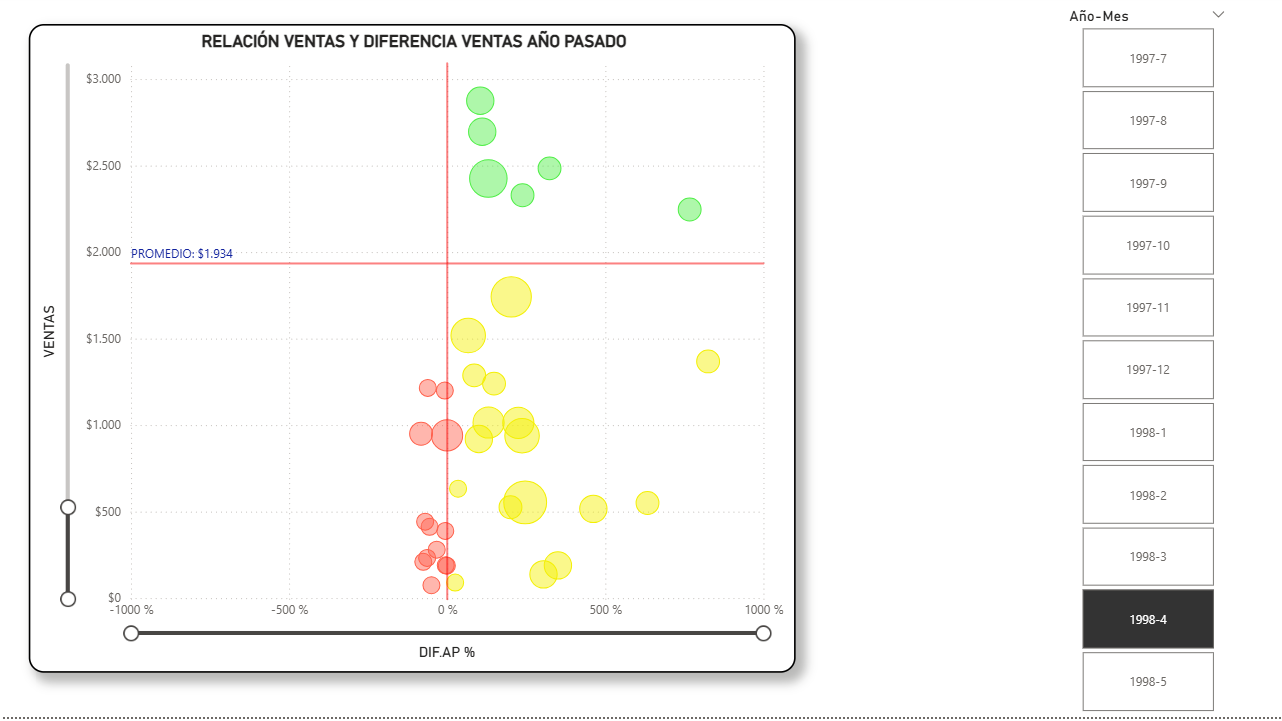

The dashboard page shown, as its layout file describes it:
{"tool":"powerbi","page":{"name":"DISPERSIÓN","canvas":[1280,720],"ordinal":0},"visuals":[{"type":"scatterChart","title":"RELACIÓN VENTAS Y DIFERENCIA VENTAS AÑO PASADO","fields":{"Category":["Products.ProductName"],"Y":["MEDIDAS.VENTAS"],"X":["MEDIDAS.DIF.AP %"],"Size":["MEDIDAS.CANTIDAD ORDENES"]},"box":[28.6,30.4,763.4,645.4],"z":0},{"type":"slicer","fields":{"Values":["CALENDARIO.Año-Mes"]},"box":[1051.2,8.9,180.6,711.5],"z":1000}]}

Visuals, with their boxes in screenshot pixels (x1, y1, x2, y2), scaled from the page's 1280x720 canvas onto the 1282x721 screenshot:
"RELACIÓN VENTAS Y DIFERENCIA VENTAS AÑO PASADO" scatterChart: (left=29, top=30, right=793, bottom=677)
slicer - CALENDARIO.Año-Mes: (left=1053, top=9, right=1234, bottom=720)
